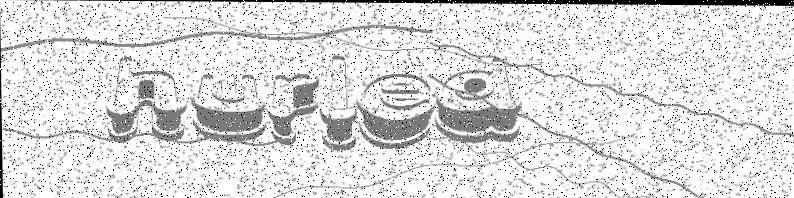d: (431, 57, 526, 143)
e: (358, 67, 437, 148)
h: (103, 51, 187, 143)
l: (315, 53, 361, 153)
r: (265, 73, 322, 144)
u: (187, 69, 267, 142)
